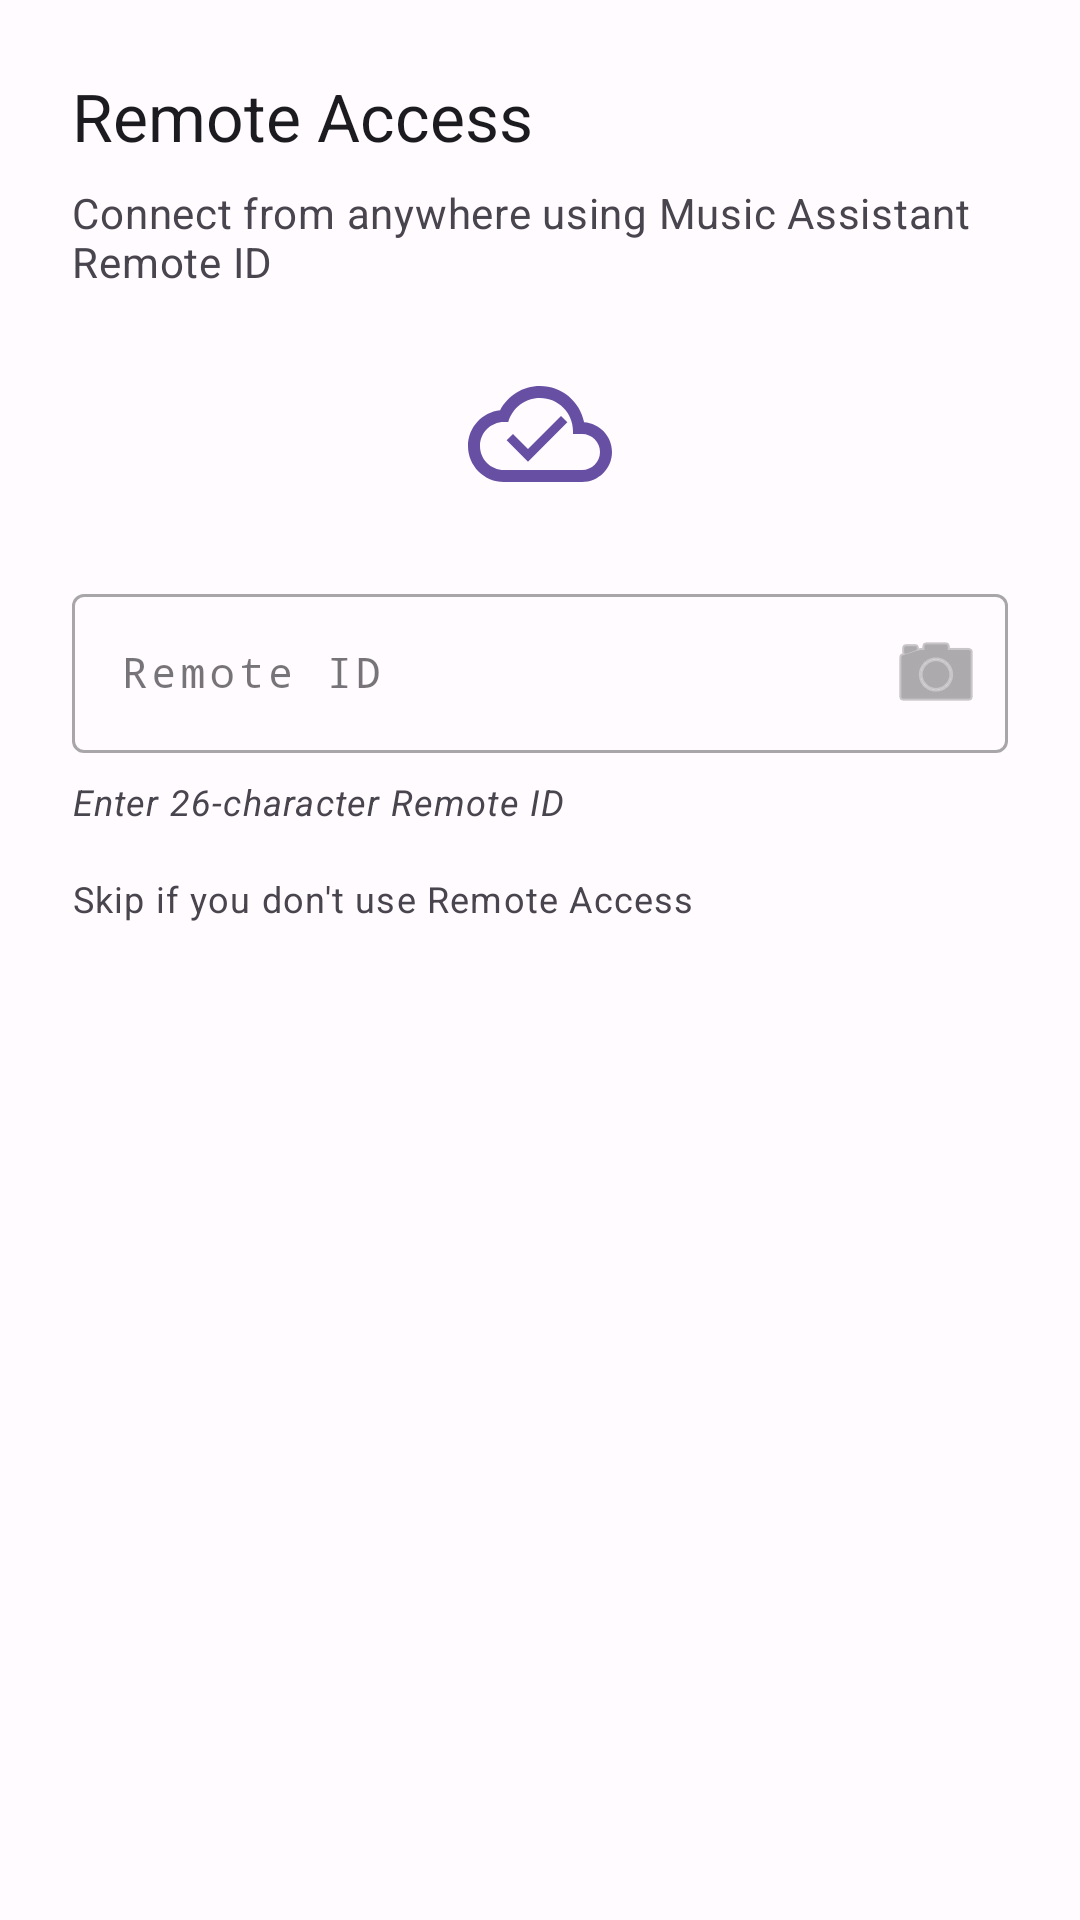

Where to tap for icons on this 1080 × 1920 app screen, as (x,y):
cloud connected: (540,434)
